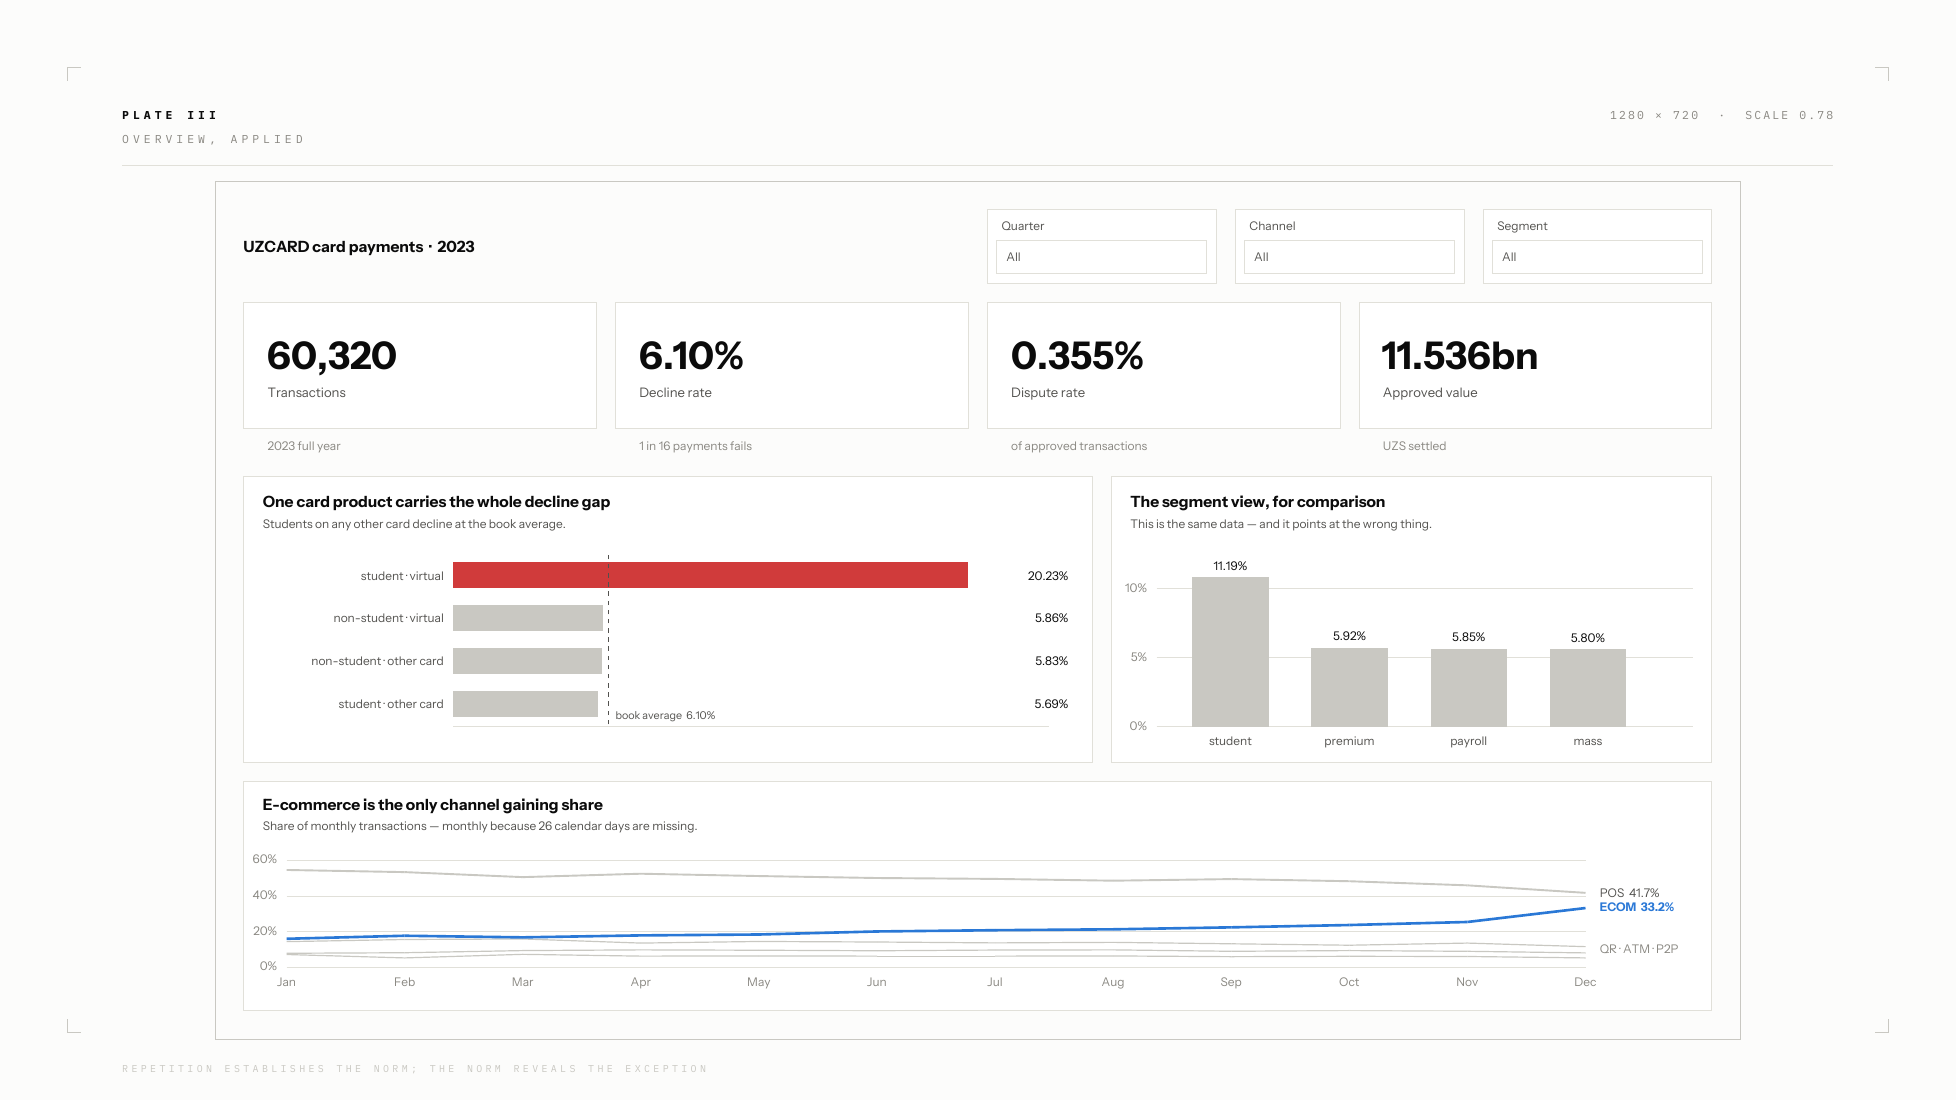

The page's visual inventory and layout, read from the dashboard file:
{"tool":"powerbi","page":{"name":"Overview","canvas":[1280,720],"ordinal":0},"visuals":[{"type":"cardVisual","fields":{"Data":["uzcard fact_transactions.Transactions"]},"box":[24.3,102,296,106],"z":0},{"type":"textbox","box":[24,39,400,32],"z":1000},{"type":"slicer","fields":{"Values":["uzcard dim_date.quarter_name"]},"box":[648,24,192,62.7],"z":2000},{"type":"slicer","fields":{"Values":["uzcard dim_terminal.channel"]},"box":[856,24,192,62.7],"z":3000},{"type":"slicer","fields":{"Values":["uzcard dim_customer.segment"]},"box":[1064,24,192,62],"z":4000},{"type":"cardVisual","fields":{"Data":["uzcard fact_transactions.Decline rate"]},"box":[336,102,296,106],"z":5000},{"type":"cardVisual","fields":{"Data":["uzcard fact_transactions.Dispute rate"]},"box":[648,102,296,106],"z":6000},{"type":"cardVisual","fields":{"Data":["uzcard fact_transactions.Approved value"]},"box":[960,102,296,106],"z":7000},{"type":"textbox","box":[44,210,256,22],"z":8000},{"type":"textbox","box":[356,210,256,22],"z":9000},{"type":"textbox","box":[668,210,256,22],"z":10000},{"type":"textbox","box":[980,210,296,22],"z":11000},{"type":"clusteredBarChart","title":"One card product carries the whole decline gap","fields":{"Category":["uzcard dim_card.card_profile"],"Y":["uzcard fact_transactions.Decline rate"]},"box":[24,248,712,246],"z":12000},{"type":"columnChart","title":"The segment view, for comparison","fields":{"Category":["uzcard dim_customer.segment"],"Y":["uzcard fact_transactions.Decline rate"]},"box":[752,248,504,240],"z":13000},{"type":"lineChart","title":"\tE-commerce is the only channel gaining share","fields":{"Series":["uzcard dim_terminal.channel"],"Y":["uzcard fact_transactions.Share of month"],"Category":["uzcard dim_date.month_name"]},"box":[24,504,1232,192],"z":14000}]}

Visuals, with their boxes in screenshot pixels (x1, y1, x2, y2), scaled from the page's 1280x720 canvas onto the 1956x1100 screenshot:
cardVisual - uzcard fact_transactions.Transactions: {"x1": 37, "y1": 156, "x2": 489, "y2": 318}
textbox: {"x1": 37, "y1": 60, "x2": 648, "y2": 108}
slicer - uzcard dim_date.quarter_name: {"x1": 990, "y1": 37, "x2": 1284, "y2": 132}
slicer - uzcard dim_terminal.channel: {"x1": 1308, "y1": 37, "x2": 1601, "y2": 132}
slicer - uzcard dim_customer.segment: {"x1": 1626, "y1": 37, "x2": 1919, "y2": 131}
cardVisual - uzcard fact_transactions.Decline rate: {"x1": 513, "y1": 156, "x2": 966, "y2": 318}
cardVisual - uzcard fact_transactions.Dispute rate: {"x1": 990, "y1": 156, "x2": 1443, "y2": 318}
cardVisual - uzcard fact_transactions.Approved value: {"x1": 1467, "y1": 156, "x2": 1919, "y2": 318}
textbox: {"x1": 67, "y1": 321, "x2": 458, "y2": 354}
textbox: {"x1": 544, "y1": 321, "x2": 935, "y2": 354}
textbox: {"x1": 1021, "y1": 321, "x2": 1412, "y2": 354}
textbox: {"x1": 1498, "y1": 321, "x2": 1950, "y2": 354}
"One card product carries the whole decline gap" clusteredBarChart: {"x1": 37, "y1": 379, "x2": 1125, "y2": 755}
"The segment view, for comparison" columnChart: {"x1": 1149, "y1": 379, "x2": 1919, "y2": 746}
"	E-commerce is the only channel gaining share" lineChart: {"x1": 37, "y1": 770, "x2": 1919, "y2": 1063}
